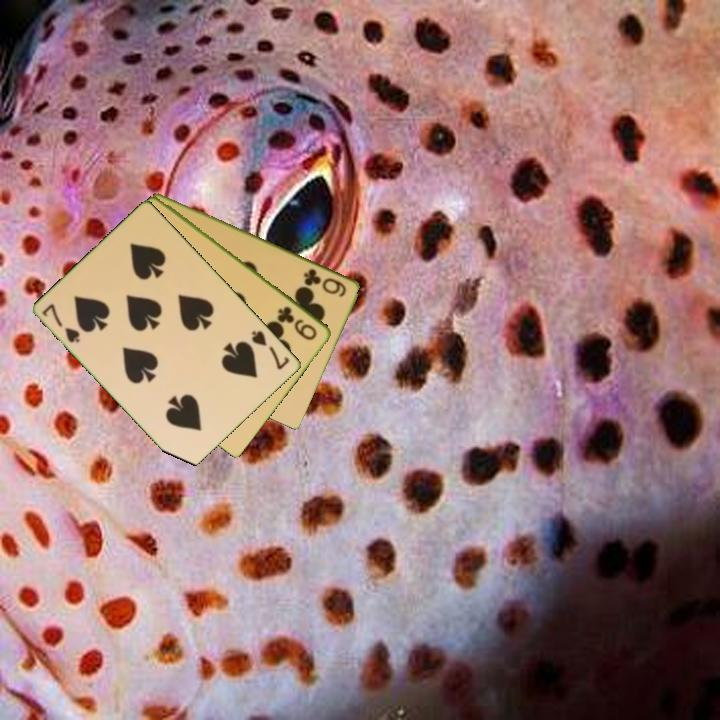6c: (300, 265, 350, 300)
7s: (248, 327, 293, 372), (39, 300, 83, 346)
9c: (274, 303, 320, 343)
